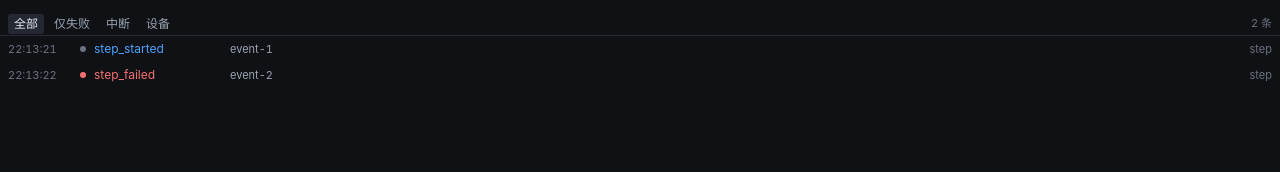
事件列表增量渲染 › 保持zh-CN本地24小时显示与筛选/设备隔离
Check: the text "2 条" is shown, box left=1251, top=15, right=1272, bottom=32
Step 1. Click the button "仅失败" → [72, 24], box left=48, top=14, right=96, bottom=34
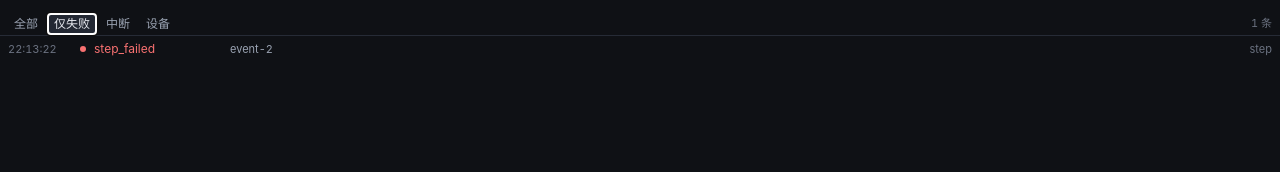
Check: the text "event-2" is shown, box left=230, top=42, right=273, bottom=56
Check: the text "event-1" is gone
